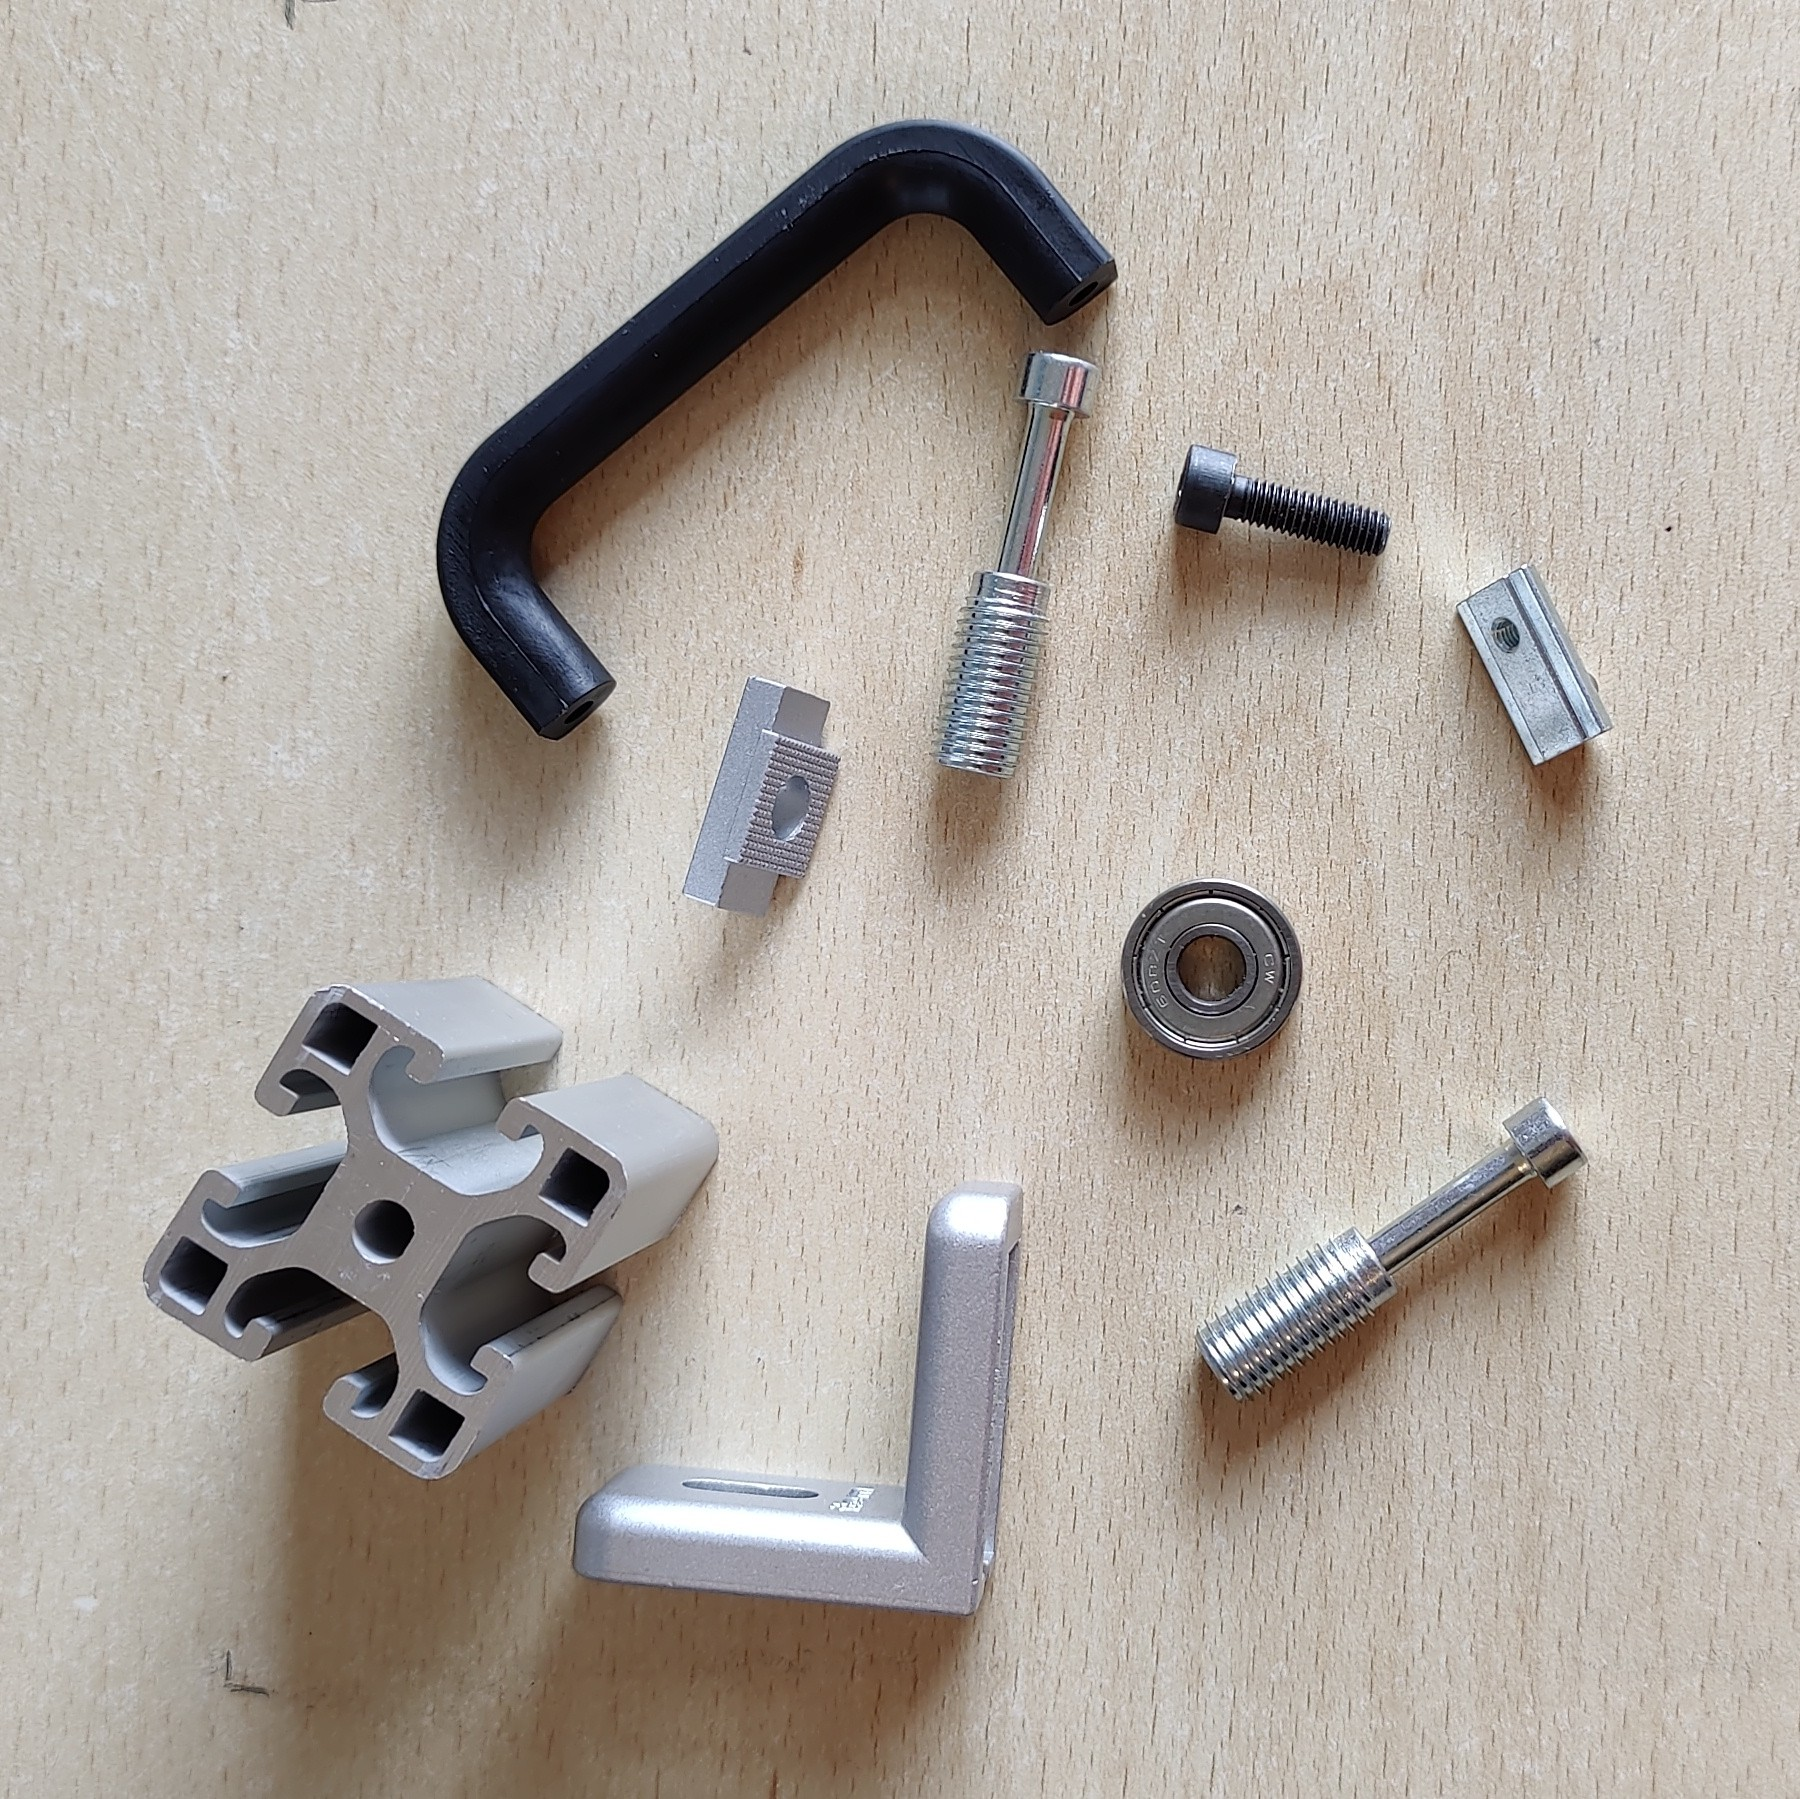Aluminium Extension: (140, 974, 721, 1484)
Ball Bearing: (1120, 880, 1304, 1061)
Multiwinkel: (571, 1180, 1023, 1618)
Pull Handle: (435, 117, 1120, 741)
Shoulder Socket Head Cap Screw: (1194, 1097, 1589, 1402), (924, 348, 1098, 779)
Socket Head Cap Screw: (1169, 445, 1393, 558)
T Nut Square: (678, 674, 840, 919)
T Spring Nut: (1454, 562, 1616, 771)
